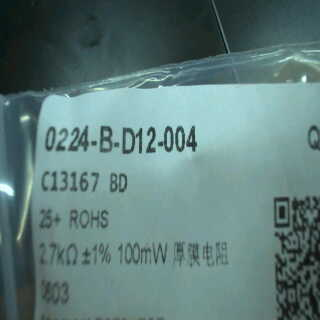2.7kR: (33, 235, 79, 268)
